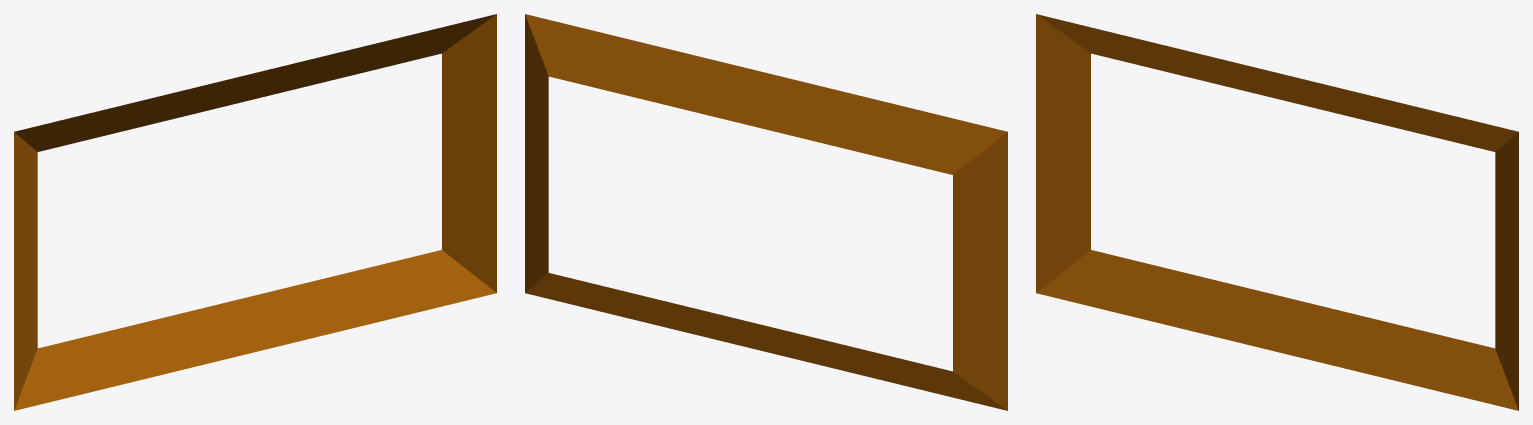
Rendered from Mod_DianZiHeiBan_GuangHuan.fbx.
3 views of the same model, side by side, from view 1: azimuth 30°, elevation 25°; view 2: azimuth 150°, elevation 25°; view 3: azimuth 330°, elevation 25° (orthographic).
Parts seen in each view (by area): view 1: 对象001; view 2: 对象001; view 3: 对象001.
Part boxes in pixels (x1,y1,x2,y2): 对象001: [14, 14, 496, 410]; 对象001: [525, 14, 1007, 410]; 对象001: [1036, 14, 1518, 410].
Size of the model in its own units: 2.47 by 1.36 by 0.1387.
